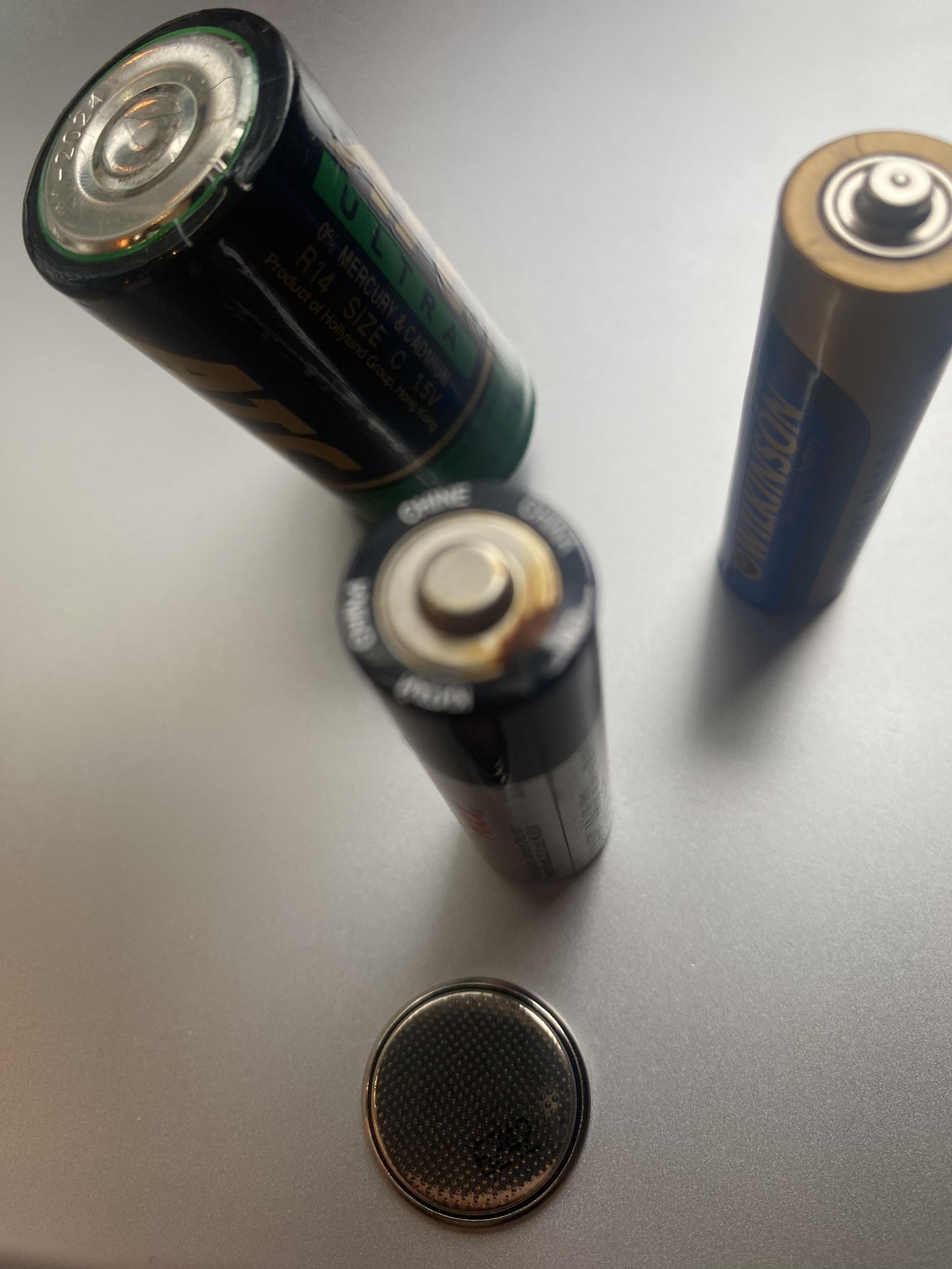AA: (715, 127, 951, 616), (335, 478, 612, 886)
COIN: (334, 963, 614, 1268)
